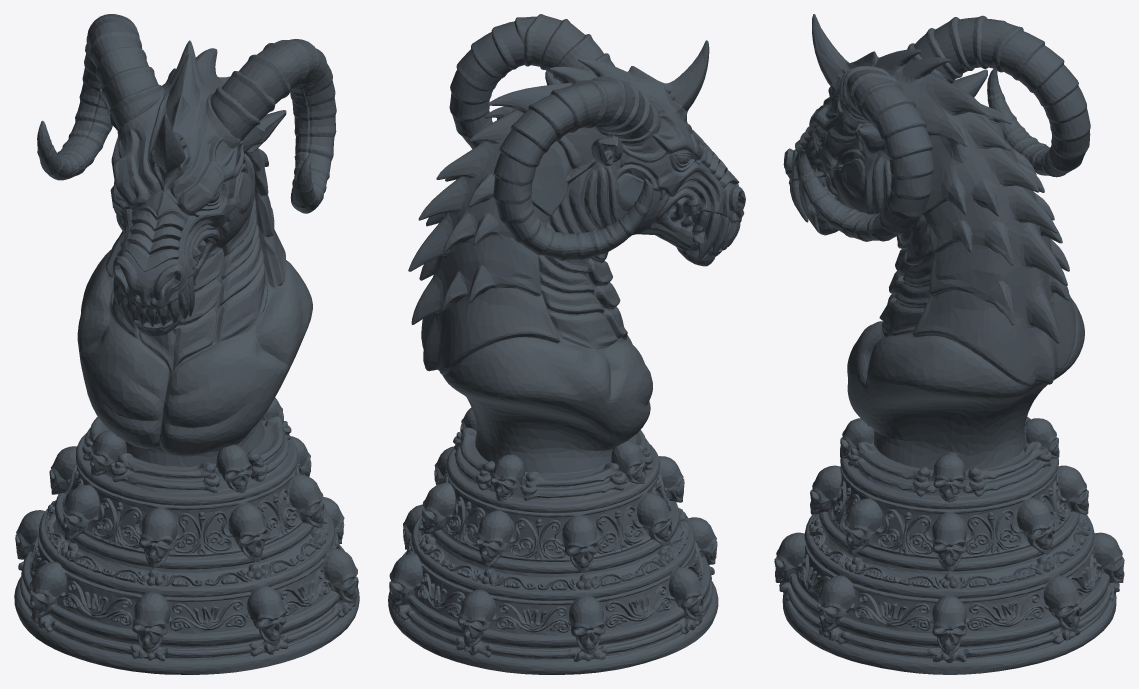
The picture shows the model from 3 angles, left to right: view 1: azimuth 30°, elevation 25°; view 2: azimuth 150°, elevation 25°; view 3: azimuth 270°, elevation 25°; orthographic projection. The views are drawn at different scales.
Visible parts, largest first — view 1: 3MF Object.008; view 2: 3MF Object.008; view 3: 3MF Object.008.
Boxes of the visible parts, bbox=[...] form: 3MF Object.008: bbox=[14, 14, 359, 674]; 3MF Object.008: bbox=[388, 14, 745, 674]; 3MF Object.008: bbox=[774, 14, 1124, 674].
Size of the model in its own units: 0.0418 by 0.0738 by 0.042.
1 material, 1 textured.
